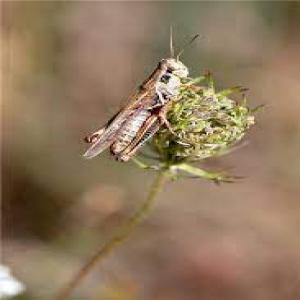locust: (78, 36, 235, 167)
